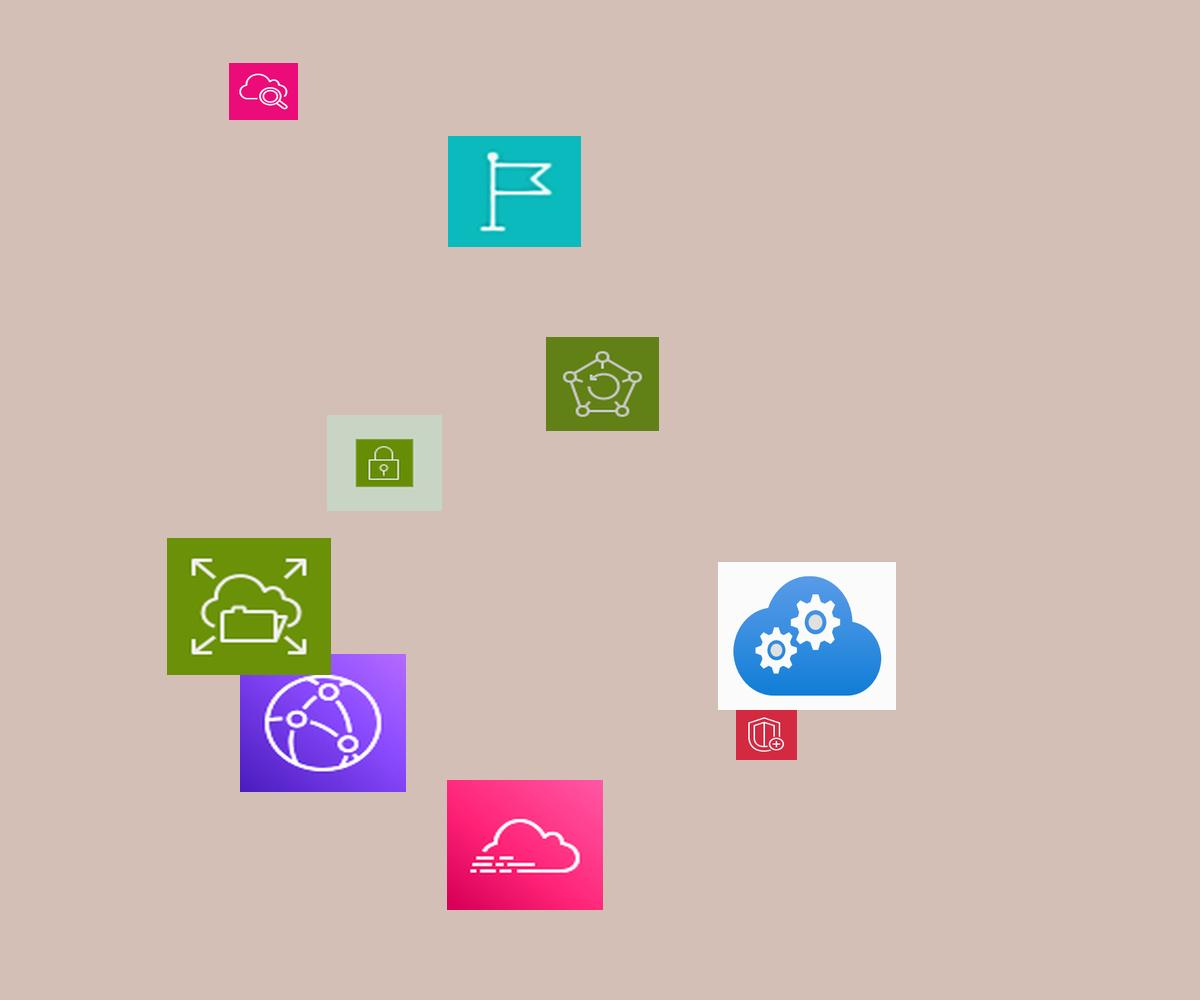AWS-Backup: (546, 337, 659, 431)
AWS-CloudFront: (240, 654, 406, 792)
AWS-CloudTrail: (447, 780, 603, 910)
AWS-CloudWatch: (229, 63, 298, 120)
AWS-EFS: (167, 538, 331, 675)
AWS-Public-subnet: (327, 415, 442, 511)
AWS-Region: (448, 136, 581, 247)
AWS-Shield: (736, 709, 797, 760)
Azure_cloud_services: (718, 562, 896, 710)
